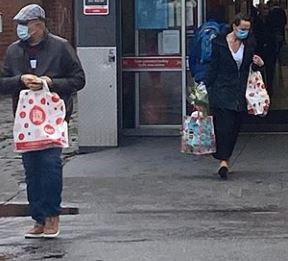Good: (1, 2, 264, 240)
